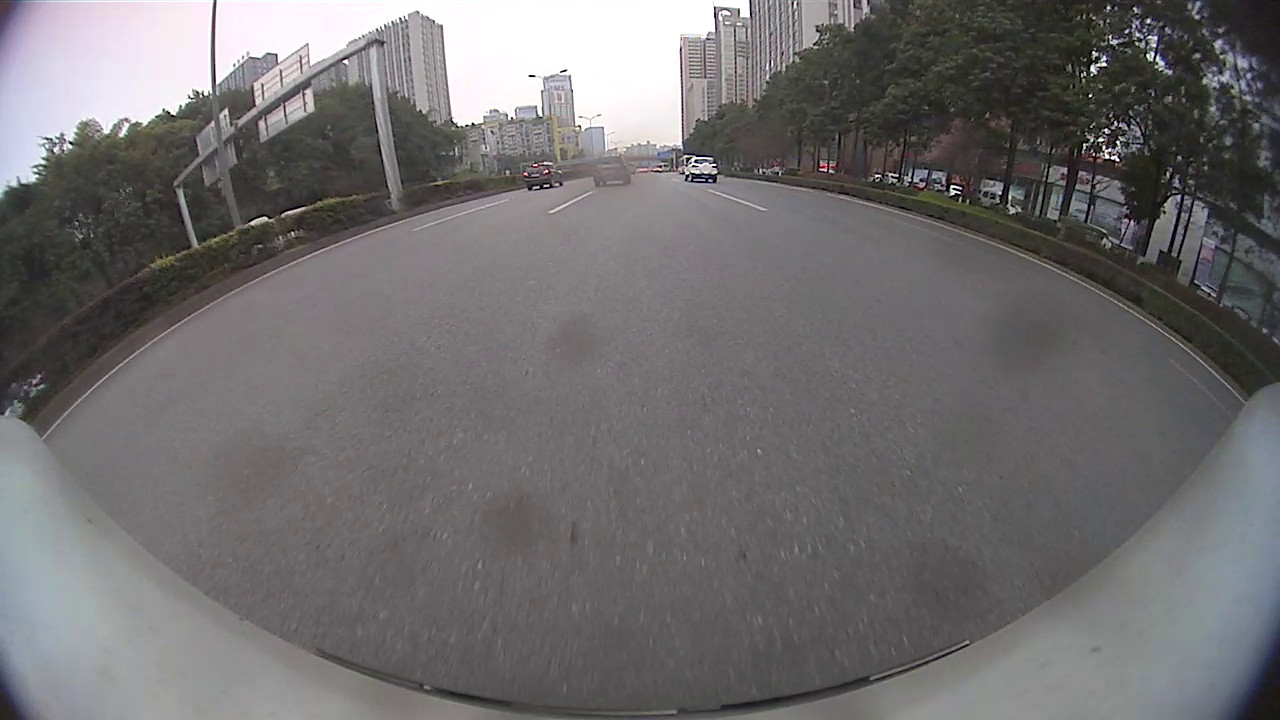car: (523, 161, 564, 192), (591, 157, 631, 186), (683, 156, 719, 183)
